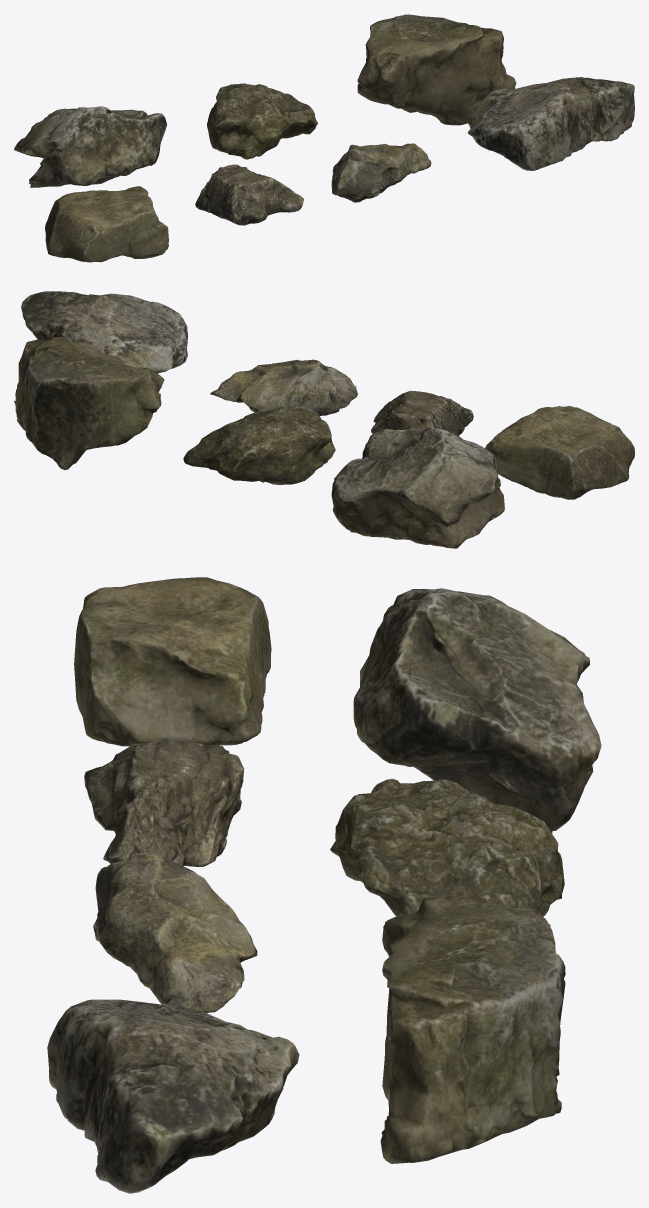
File: rock_moss_set_02-game.glb
3 views of the same model, one above another, from view 1: azimuth 30°, elevation 25°; view 2: azimuth 150°, elevation 25°; view 3: azimuth 270°, elevation 25° (orthographic). The views are drawn at different scales.
Visible parts, largest first — view 1: rock_moss_set_02_rock13, rock_moss_set_02_rock10, rock_moss_set_02_rock11, rock_moss_set_02_rock07, rock_moss_set_02_rock12, rock_moss_set_02_rock08, rock_moss_set_02_rock09; view 2: rock_moss_set_02_rock11, rock_moss_set_02_rock13, rock_moss_set_02_rock07, rock_moss_set_02_rock10, rock_moss_set_02_rock12, rock_moss_set_02_rock09, rock_moss_set_02_rock08; view 3: rock_moss_set_02_rock13, rock_moss_set_02_rock11, rock_moss_set_02_rock10, rock_moss_set_02_rock07, rock_moss_set_02_rock12, rock_moss_set_02_rock09, rock_moss_set_02_rock08.
Boxes of the visible parts, x1=… form: rock_moss_set_02_rock13: x1=357, y1=14, x2=516, y2=125; rock_moss_set_02_rock10: x1=467, y1=77, x2=634, y2=170; rock_moss_set_02_rock11: x1=14, y1=106, x2=166, y2=187; rock_moss_set_02_rock07: x1=45, y1=186, x2=168, y2=262; rock_moss_set_02_rock12: x1=207, y1=83, x2=317, y2=159; rock_moss_set_02_rock08: x1=195, y1=164, x2=303, y2=225; rock_moss_set_02_rock09: x1=331, y1=143, x2=431, y2=202; rock_moss_set_02_rock11: x1=331, y1=427, x2=504, y2=548; rock_moss_set_02_rock13: x1=14, y1=337, x2=164, y2=470; rock_moss_set_02_rock07: x1=485, y1=406, x2=634, y2=499; rock_moss_set_02_rock10: x1=21, y1=291, x2=187, y2=373; rock_moss_set_02_rock12: x1=183, y1=406, x2=335, y2=484; rock_moss_set_02_rock09: x1=210, y1=359, x2=357, y2=415; rock_moss_set_02_rock08: x1=371, y1=390, x2=473, y2=435; rock_moss_set_02_rock13: x1=380, y1=895, x2=565, y2=1163; rock_moss_set_02_rock11: x1=353, y1=588, x2=601, y2=833; rock_moss_set_02_rock10: x1=47, y1=999, x2=299, y2=1193; rock_moss_set_02_rock07: x1=74, y1=577, x2=271, y2=746; rock_moss_set_02_rock12: x1=330, y1=778, x2=564, y2=926; rock_moss_set_02_rock09: x1=93, y1=851, x2=257, y2=1012; rock_moss_set_02_rock08: x1=84, y1=741, x2=244, y2=866.
Bounding box in the file's own units: 8.28 × 1.37 × 3.41.
Materials: 1 (1 with a texture image).
